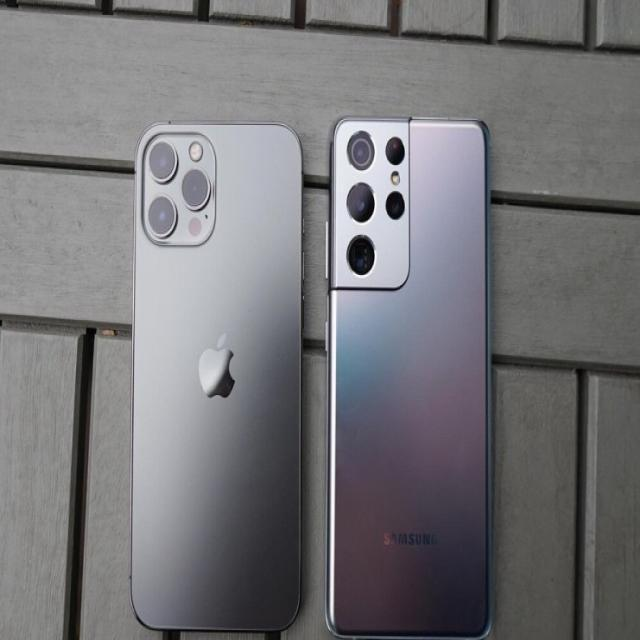phone: (126, 115, 306, 640), (324, 114, 494, 640)
